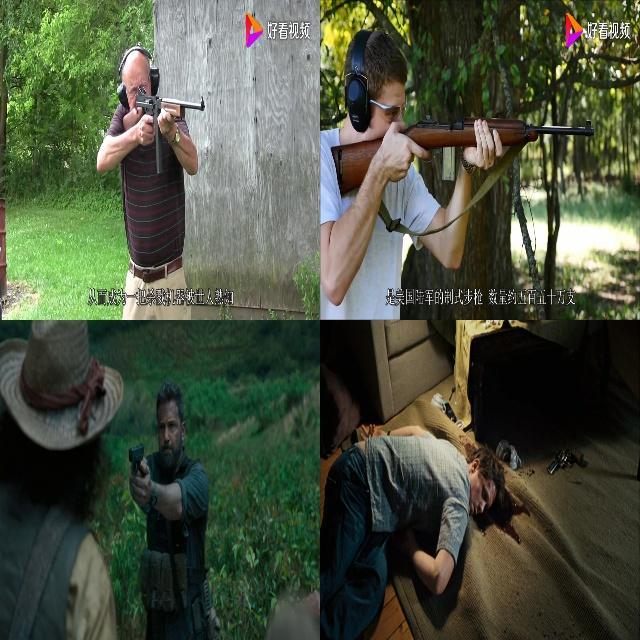gun-knife-thesis - v11 Yolov5 augmented: (329, 107, 593, 203), (120, 85, 213, 175), (123, 435, 152, 508), (543, 439, 583, 478)
